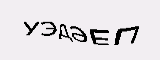Д: (57, 23, 74, 44)
Е: (89, 27, 112, 47)
П: (113, 25, 140, 48)
У: (23, 20, 39, 36)
Э: (39, 20, 57, 37)
Ә: (70, 25, 89, 43)
